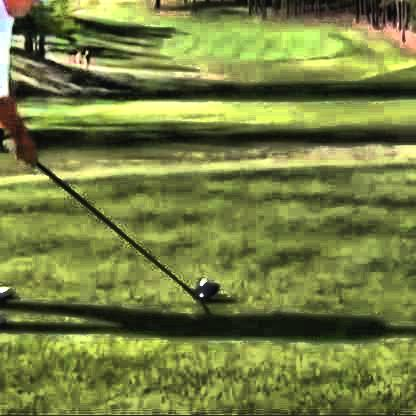golfball: (197, 276, 216, 294)
